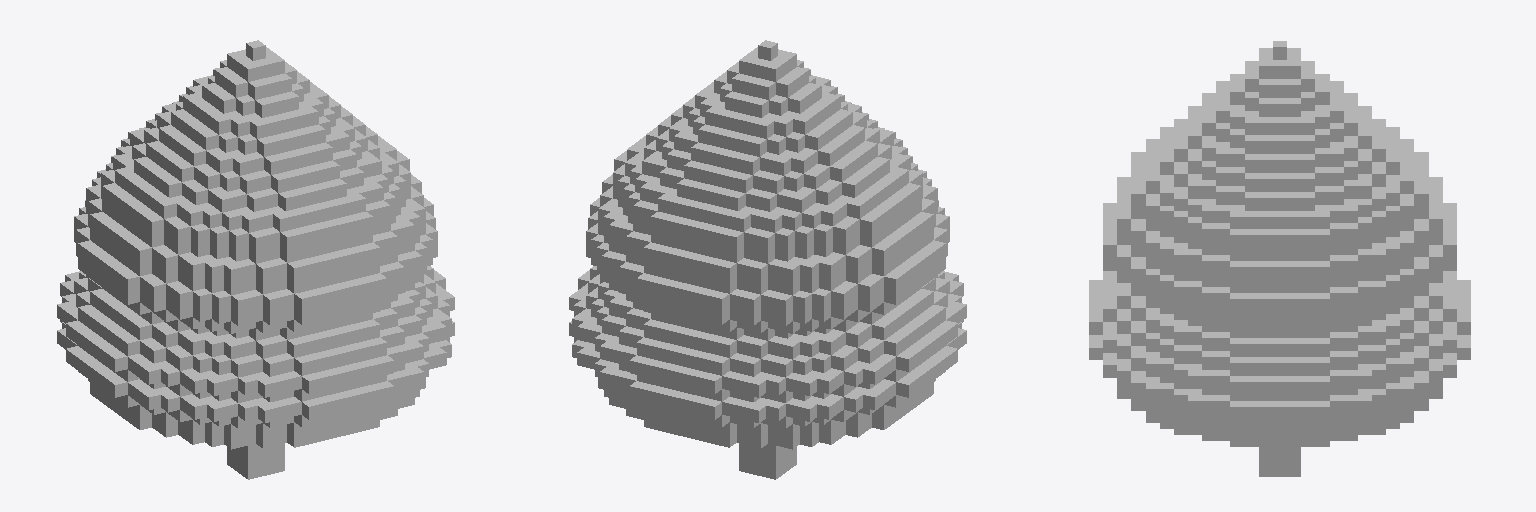
File: Tree.obj
3 views of the same model, side by side, from view 1: azimuth 30°, elevation 25°; view 2: azimuth 150°, elevation 25°; view 3: azimuth 270°, elevation 25° (orthographic).
Parts seen in each view (by area): view 1: Tree; view 2: Tree; view 3: Tree.
Boxes of the visible parts, box(x1,y1,x2,y2) form: Tree: box(57, 40, 454, 479); Tree: box(569, 40, 966, 479); Tree: box(1089, 41, 1470, 476).
Bounding box in the file's own units: 27 × 33 × 27.